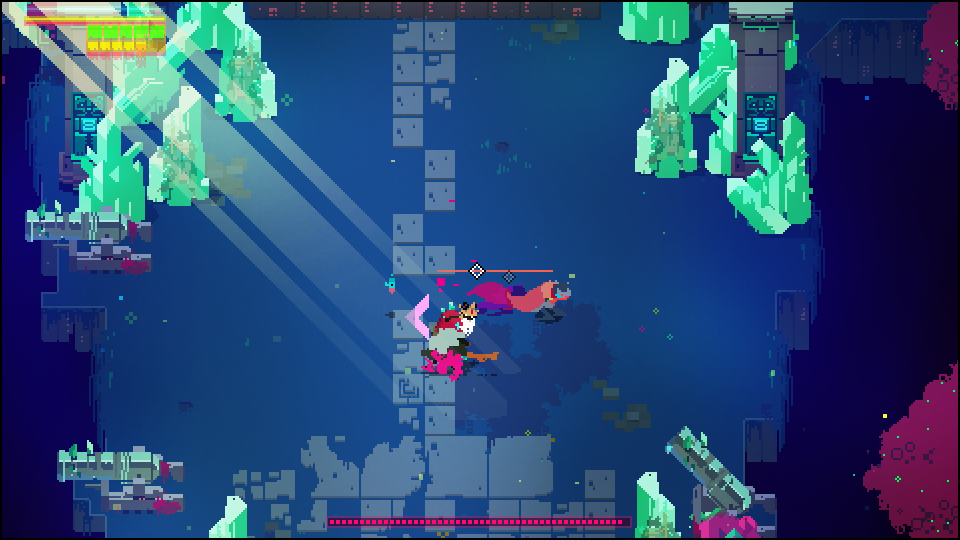hanged_man: (420, 301, 497, 372)
player: (504, 273, 581, 324)
